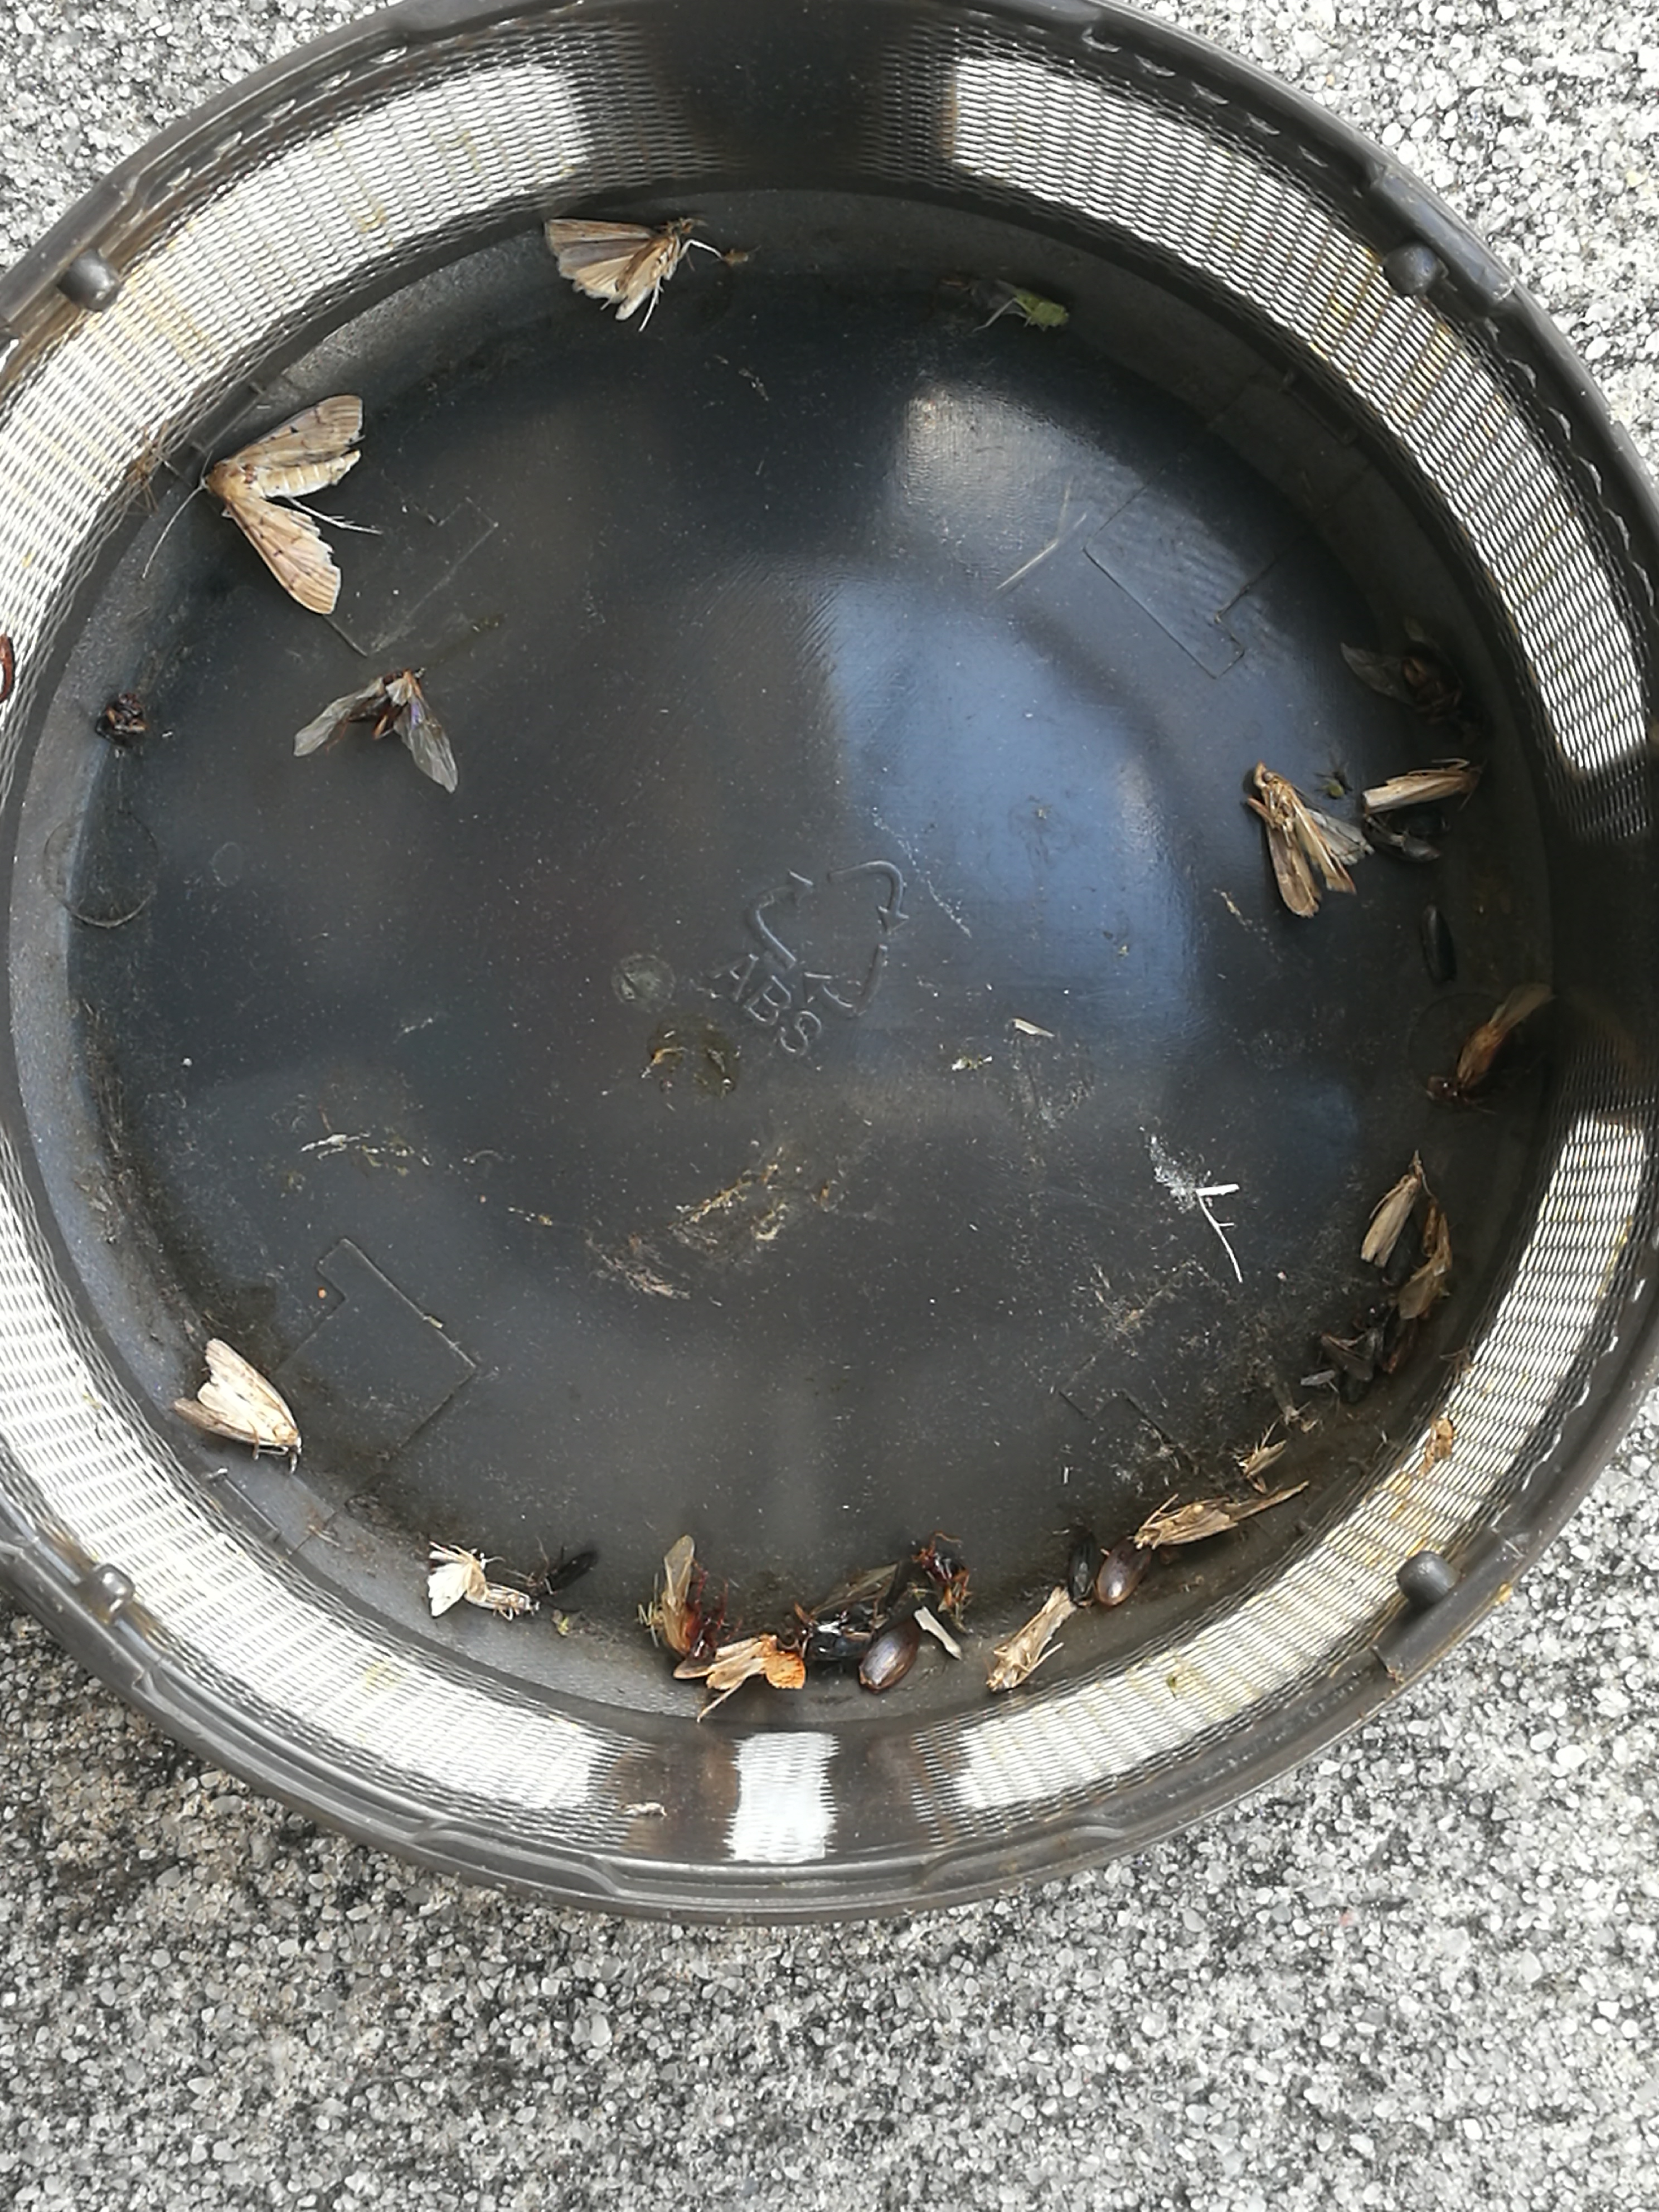beetle: (1403, 648, 1481, 738)
mosquito: (1457, 981, 1551, 1085), (988, 1590, 1072, 1693), (1361, 1165, 1422, 1266), (1363, 766, 1481, 808), (523, 1554, 592, 1594), (465, 1581, 537, 1616)
moth: (206, 392, 362, 615), (296, 667, 457, 794), (1253, 763, 1371, 918), (544, 218, 695, 320), (174, 1338, 301, 1454), (1134, 1500, 1234, 1547), (427, 1550, 488, 1618)
